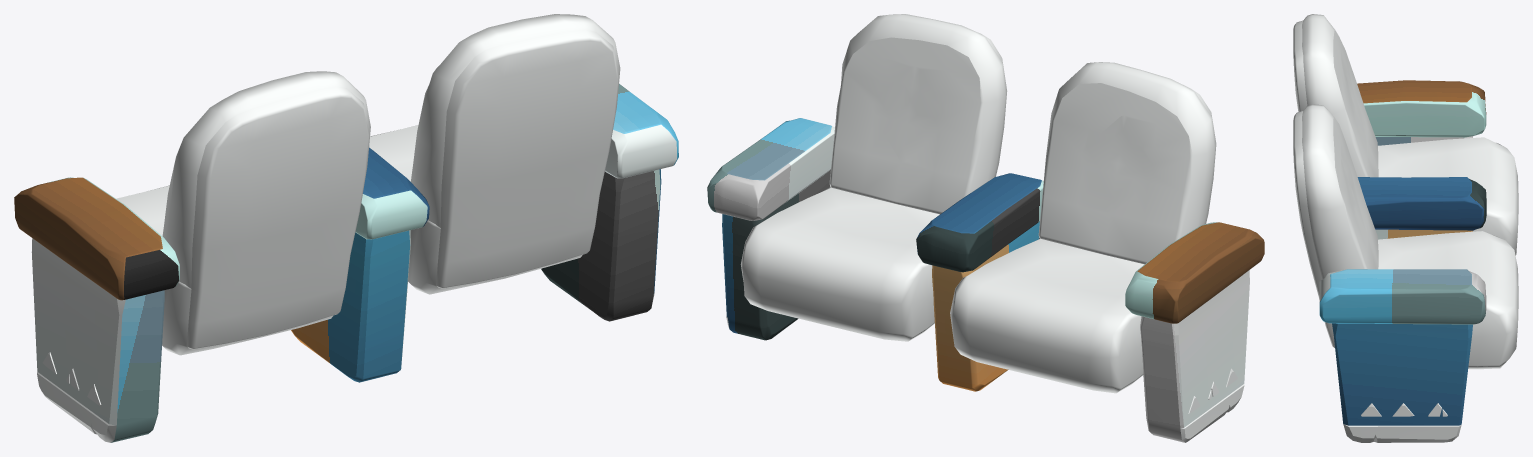
Rendered from Prop_AnniversaryMovieSeats.glb.
3 views of the same model, side by side, from view 1: azimuth 30°, elevation 25°; view 2: azimuth 150°, elevation 25°; view 3: azimuth 270°, elevation 25° (orthographic). The views are drawn at different scales.
Parts seen in each view (by area): view 1: Prop_AnniversaryMovieSeats; view 2: Prop_AnniversaryMovieSeats; view 3: Prop_AnniversaryMovieSeats.
Part boxes in pixels (bbox=[...]): Prop_AnniversaryMovieSeats: bbox=[14, 14, 678, 442]; Prop_AnniversaryMovieSeats: bbox=[707, 14, 1264, 442]; Prop_AnniversaryMovieSeats: bbox=[1293, 14, 1518, 442].
Bounding box in the file's own units: 1.29 × 0.7571 × 0.5823.
1 material, 1 textured.
